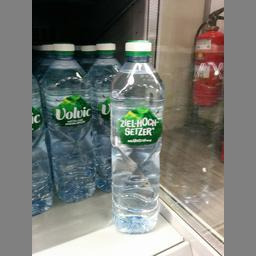water: (108, 39, 164, 234), (40, 41, 97, 202)
